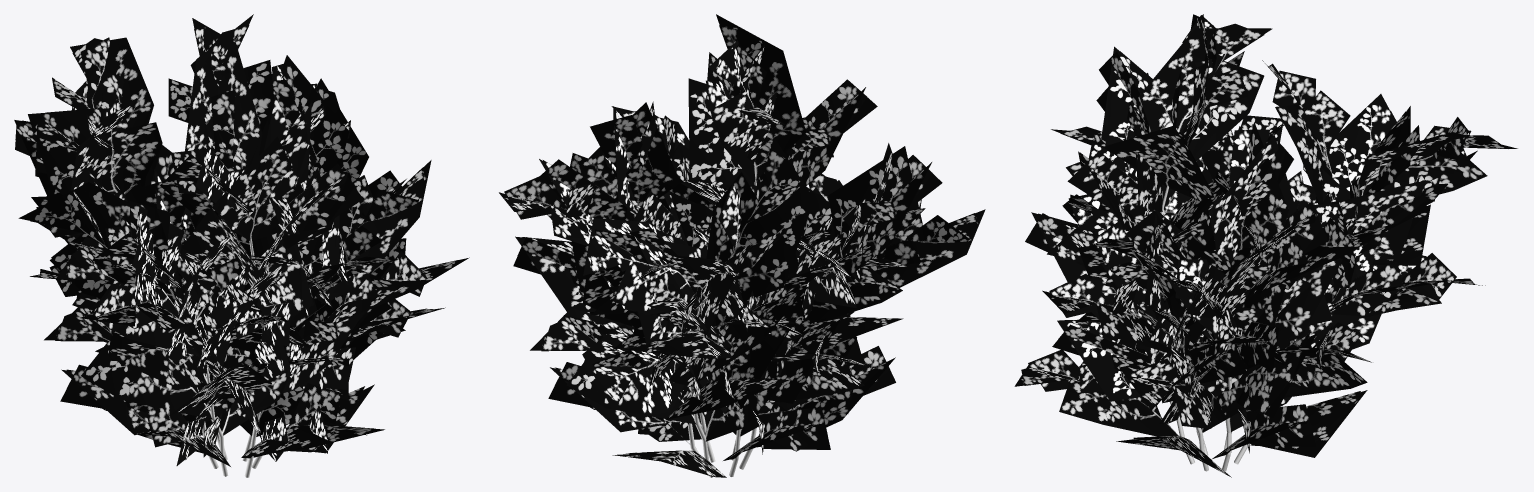
Rendered from bush_spicebush_b.gltf.
3 views of the same model, side by side, from view 1: azimuth 30°, elevation 25°; view 2: azimuth 150°, elevation 25°; view 3: azimuth 270°, elevation 25° (orthographic).
Parts seen in each view (by area): view 1: E:\SteamLibrary\steamapps\common\sbox\addons\rust\models\rus (×2); view 2: E:\SteamLibrary\steamapps\common\sbox\addons\rust\models\rus (×2); view 3: E:\SteamLibrary\steamapps\common\sbox\addons\rust\models\rus (×2).
Part boxes in pixels (x1,y1,x2,y2): E:\SteamLibrary\steamapps\common\sbox\addons\rust\models\rus (×2): (14, 14, 469, 477); E:\SteamLibrary\steamapps\common\sbox\addons\rust\models\rus (×2): (499, 14, 985, 477); E:\SteamLibrary\steamapps\common\sbox\addons\rust\models\rus (×2): (1014, 14, 1517, 477).
Bounding box in the file's own units: 5.57 × 6.29 × 6.38.
